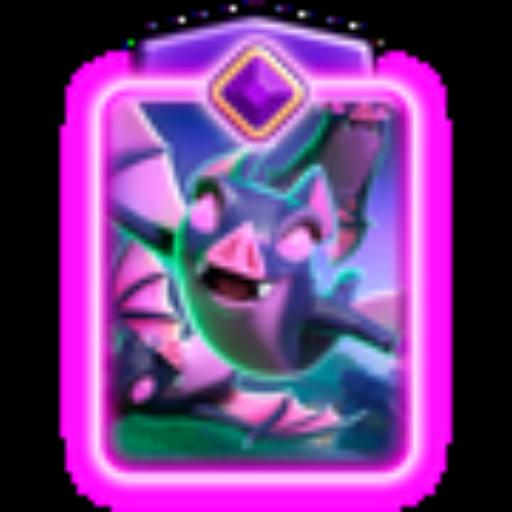bats-evo: (112, 84, 416, 474)
